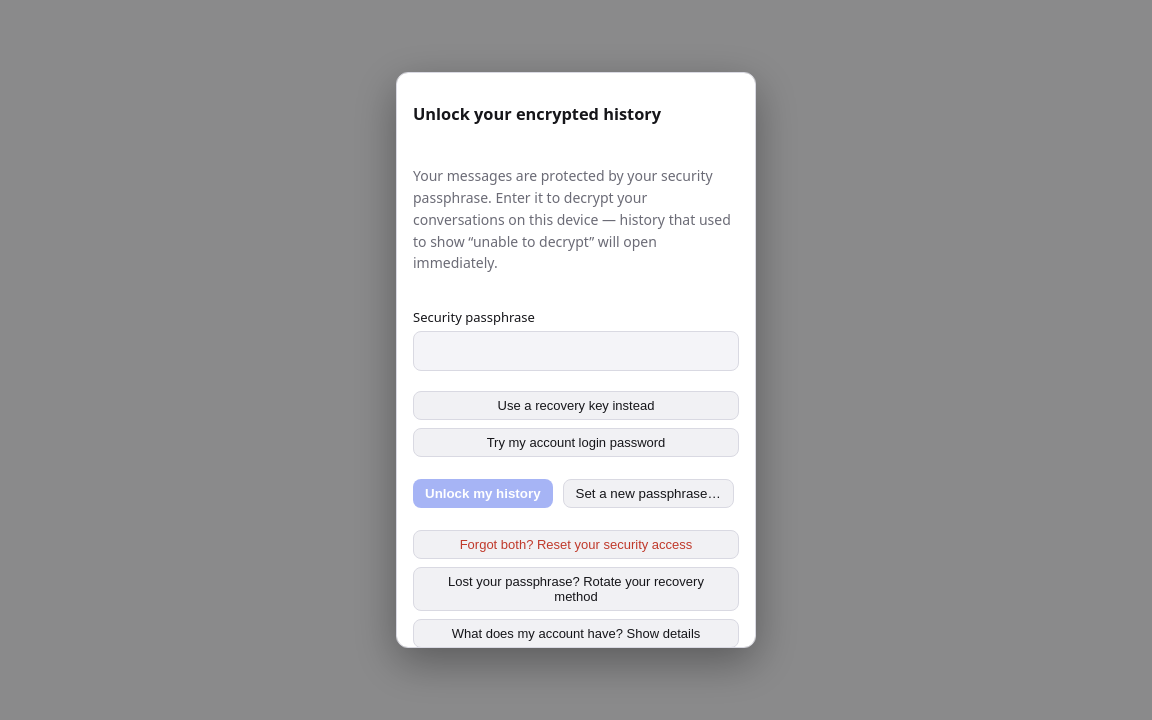
W23-B destructive reset behind an honest confirmation › a decryption-family reset error maps to actionable copy (W22 rule preserved)
The image size is (1152, 720).
expect the heading "Unlock your encrypted history" is shown: met, box [413, 103, 661, 125]
Click the button with test id "reset-entry" at (576, 545), box [413, 530, 739, 559]
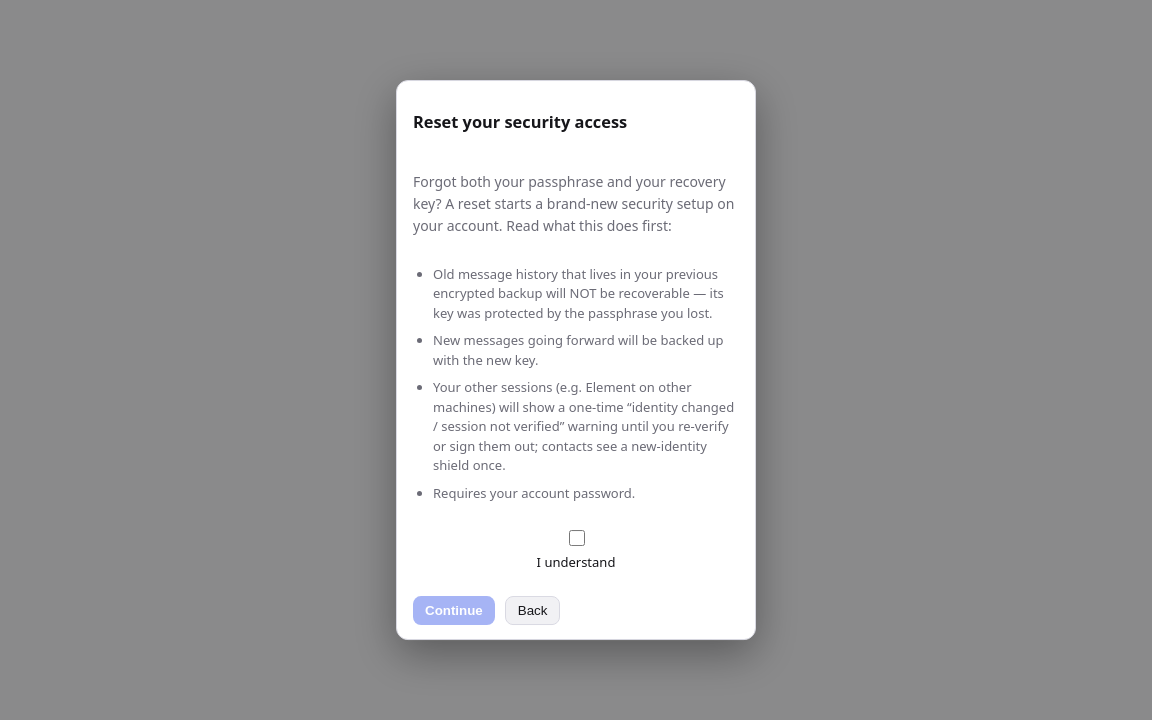
Click the checkbox with test id "reset-understand" at (576, 538), box [568, 530, 584, 546]
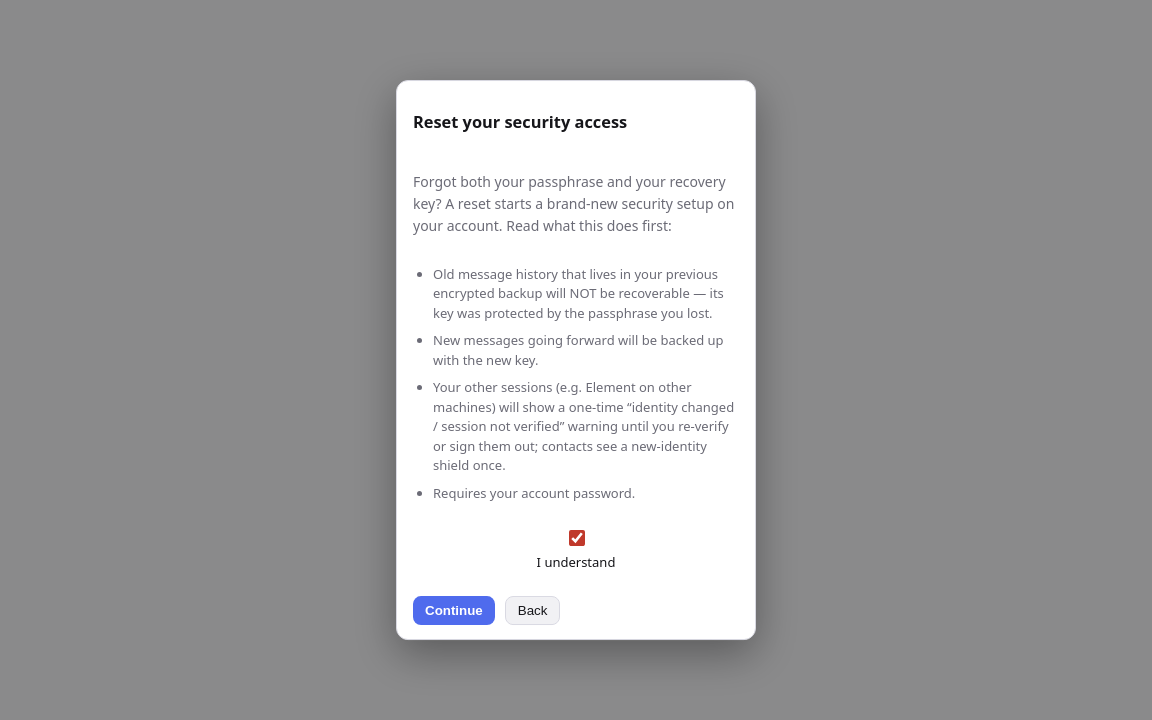
Click the button with test id "reset-continue" at (454, 610), box [413, 596, 495, 625]
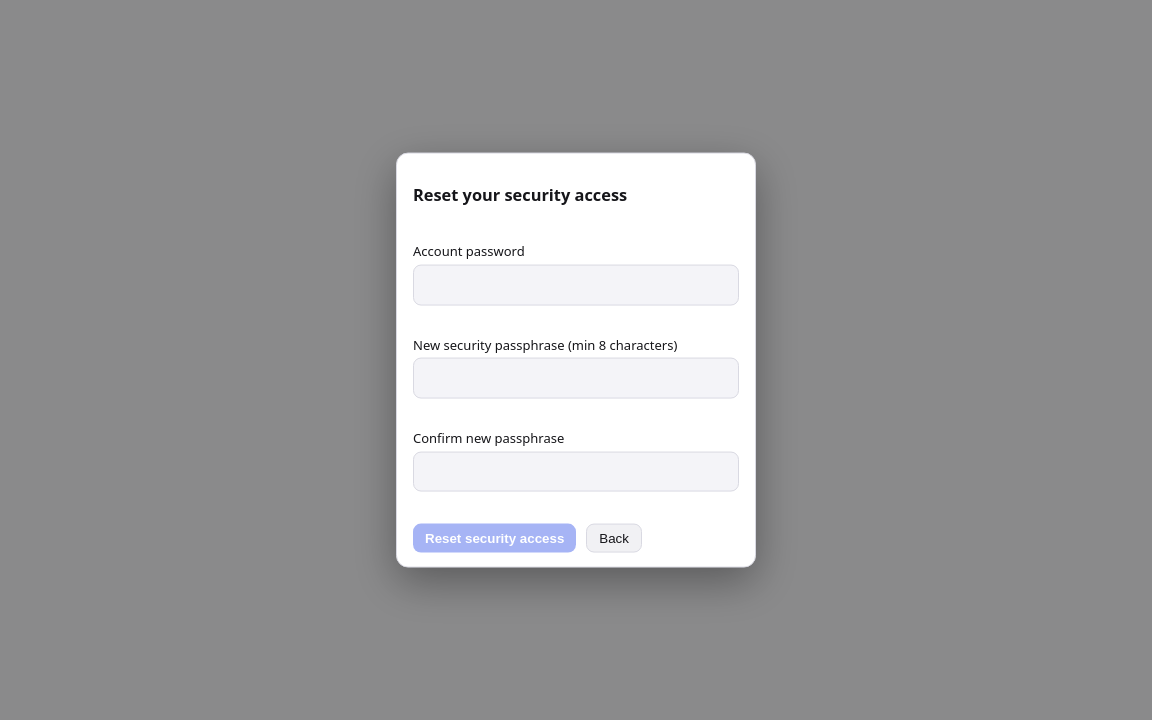
Type "pw" into the password field with test id "reset-password" at (576, 285), box [413, 265, 739, 305]
Type "brand new phrase" into the password field with test id "reset-pass1" at (576, 378), box [413, 358, 739, 398]
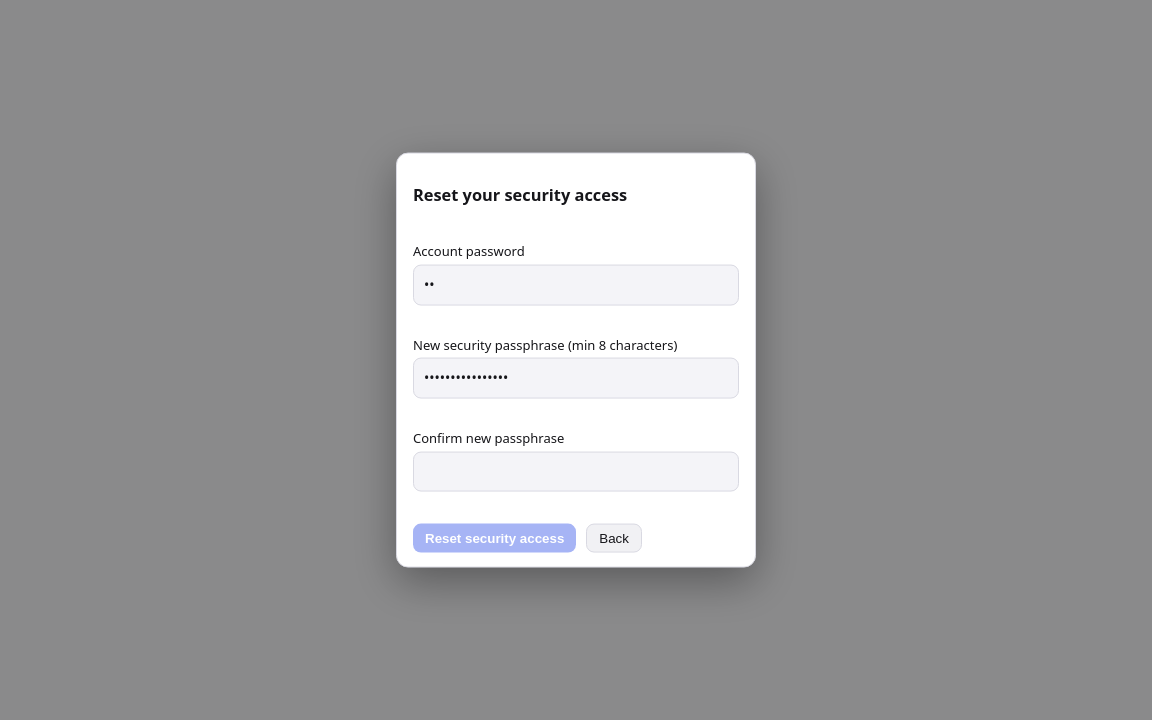
Type "brand new phrase" into the password field with test id "reset-pass2" at (576, 471), box [413, 451, 739, 492]
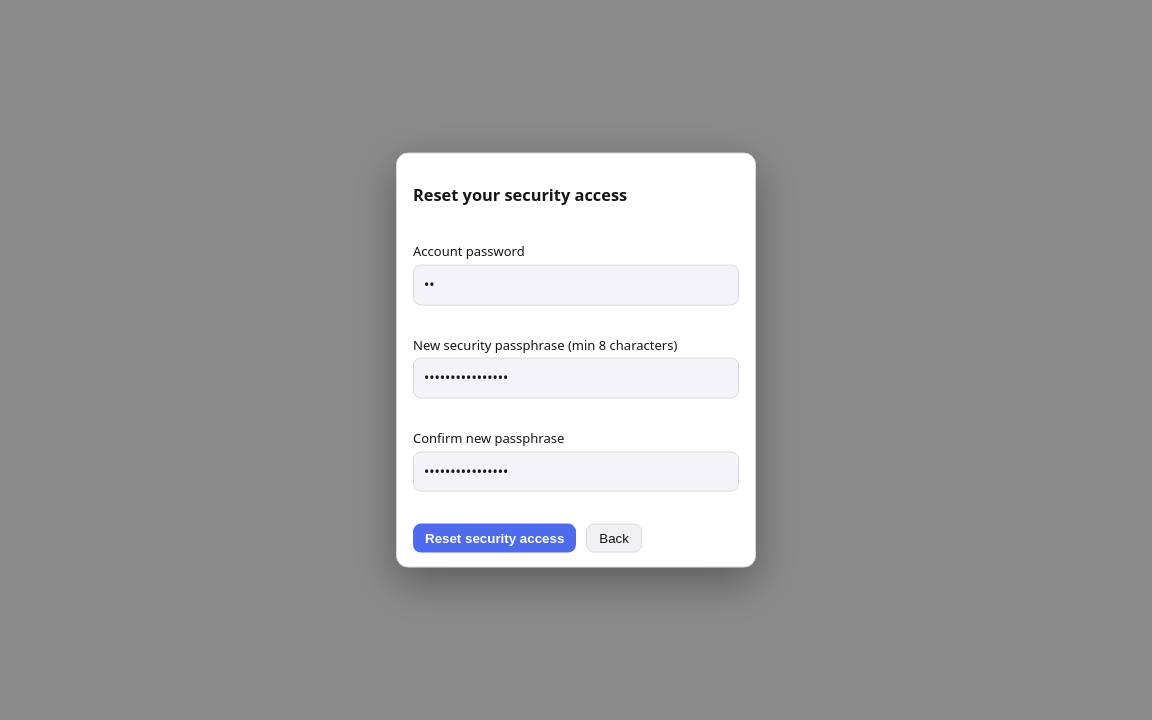
Click the button with test id "reset-go" at (495, 538), box [413, 524, 576, 552]
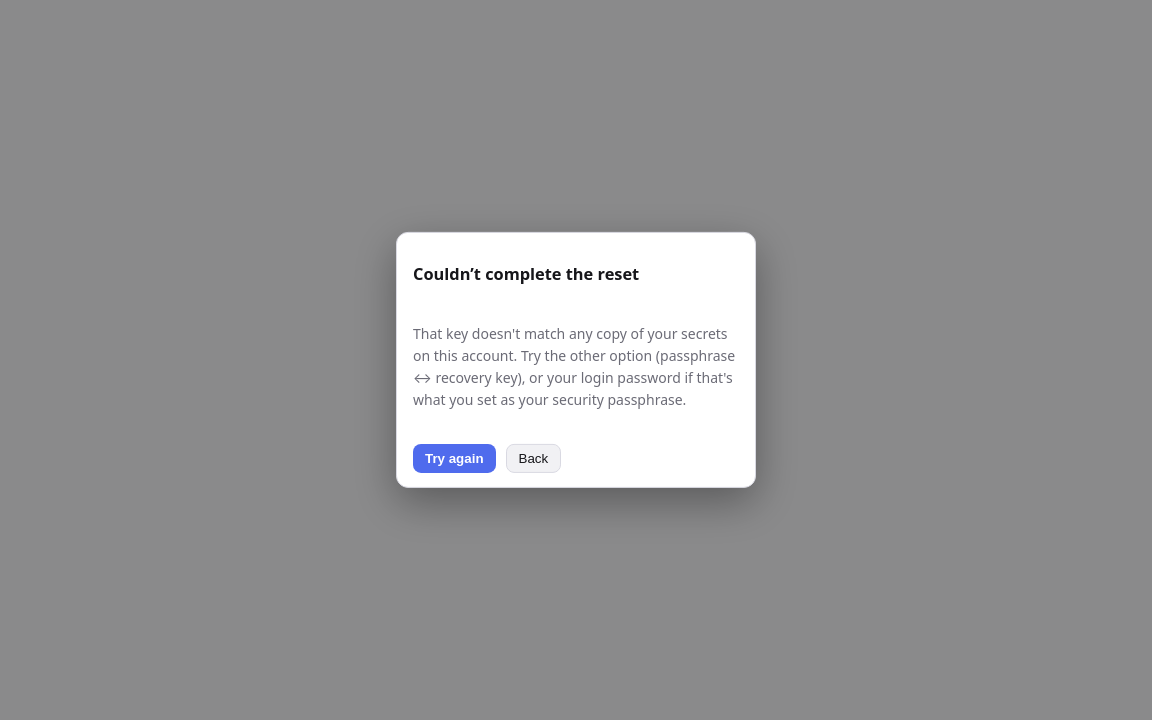
expect the element with test id "reset-error" is shown: met, box [413, 247, 739, 473]
expect the message with test id "reset-error-message" shows "doesn't match any copy of your secrets": met, box [413, 324, 735, 408]
